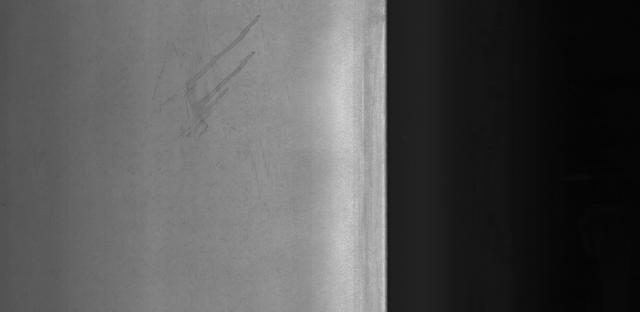water_spot: (152, 7, 268, 145)
